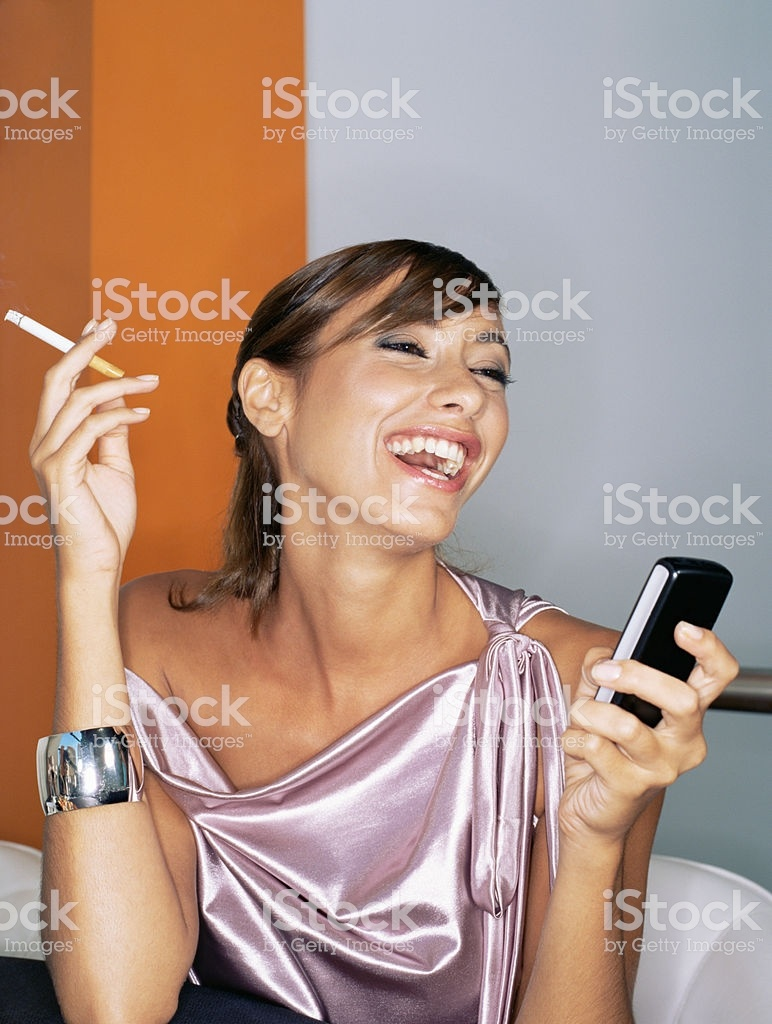sigaretta: (8, 306, 141, 385)
